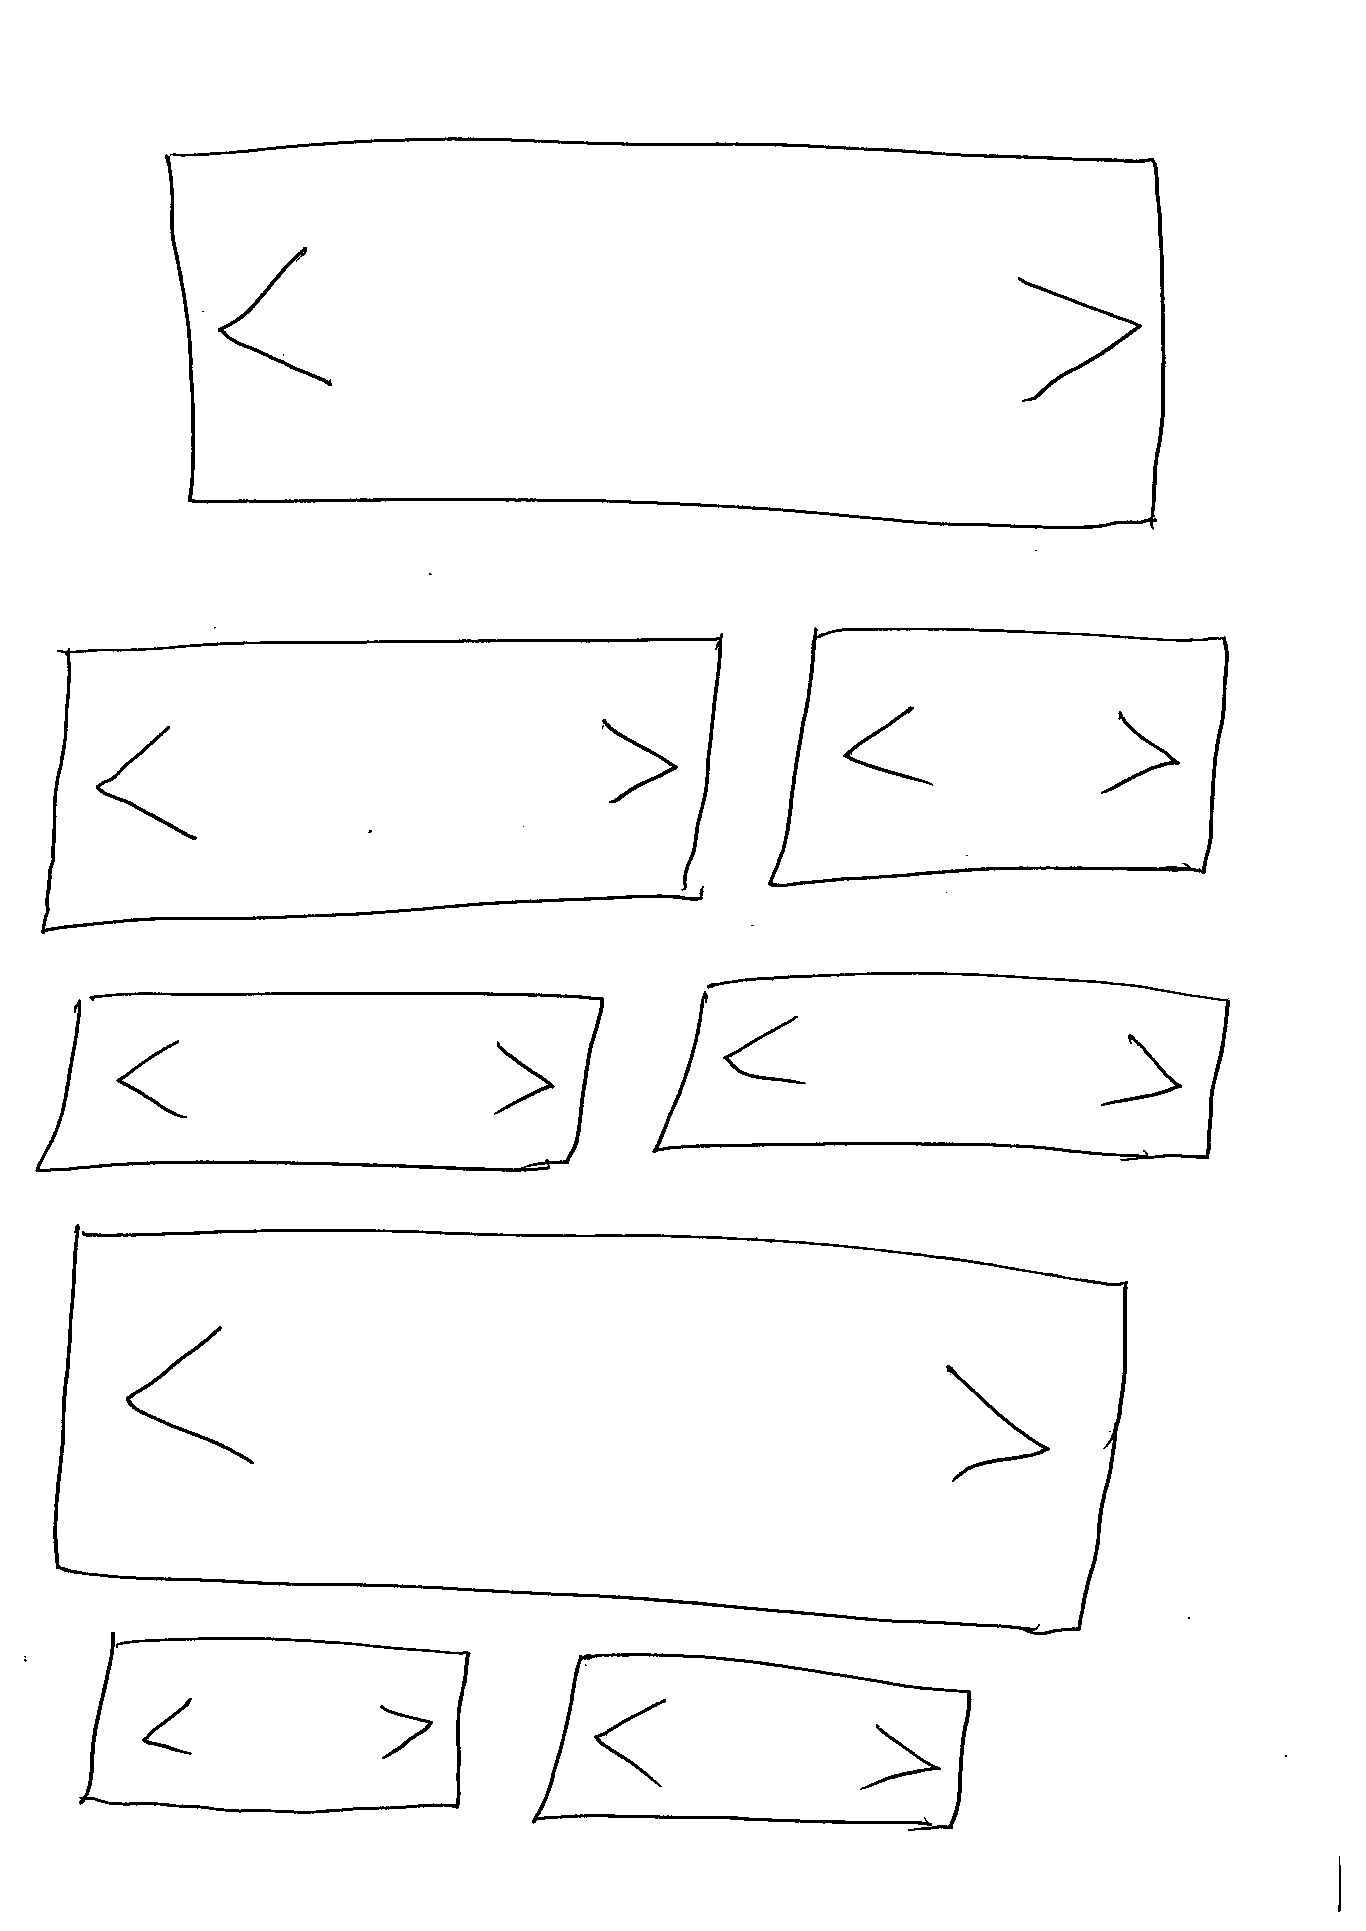Carousel: (43, 1224, 1134, 1634), (155, 135, 1169, 531), (37, 624, 730, 940), (761, 624, 1234, 895), (649, 967, 1234, 1161), (28, 985, 611, 1178), (528, 1649, 976, 1833), (69, 1623, 473, 1822)
